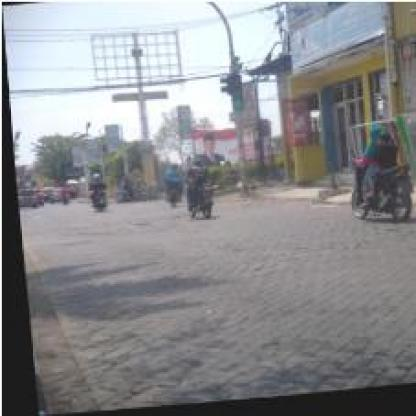green: (225, 76, 240, 115)
